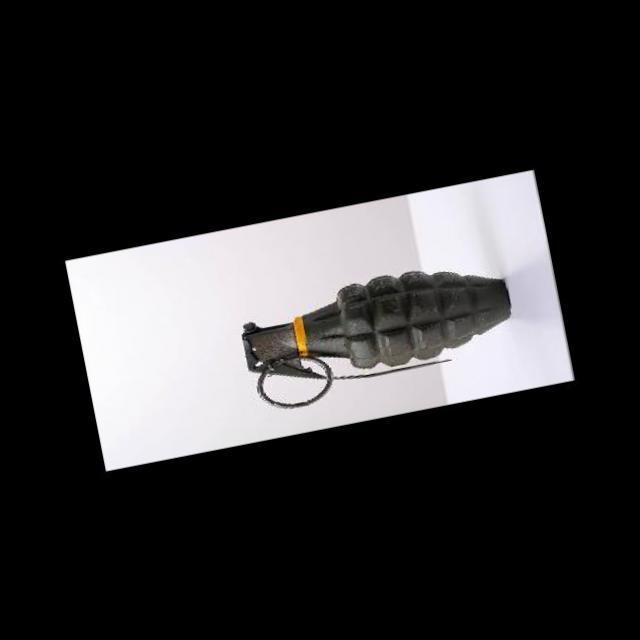grenade: (214, 232, 556, 424)
